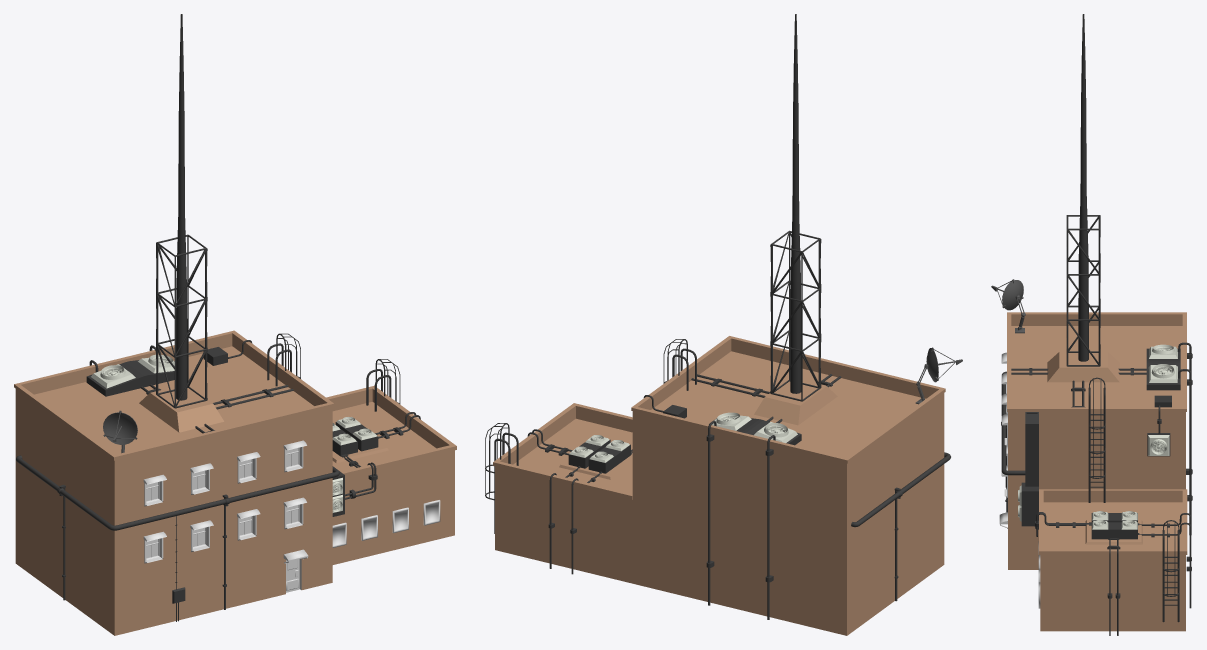
The model's file is Futuristicghettobuilding.dae.
3 views of the same model, side by side, from view 1: azimuth 30°, elevation 25°; view 2: azimuth 150°, elevation 25°; view 3: azimuth 270°, elevation 25° (orthographic). The views are drawn at different scales.
Parts seen in each view (by area): view 1: Futuristicghettobuilding_002; view 2: Futuristicghettobuilding_002; view 3: Futuristicghettobuilding_002.
Part boxes in pixels (bbox=[...]): Futuristicghettobuilding_002: bbox=[14, 14, 456, 635]; Futuristicghettobuilding_002: bbox=[485, 14, 962, 635]; Futuristicghettobuilding_002: bbox=[991, 14, 1192, 635].
Size of the model in its own units: 24.78 by 12.44 by 34.8.
